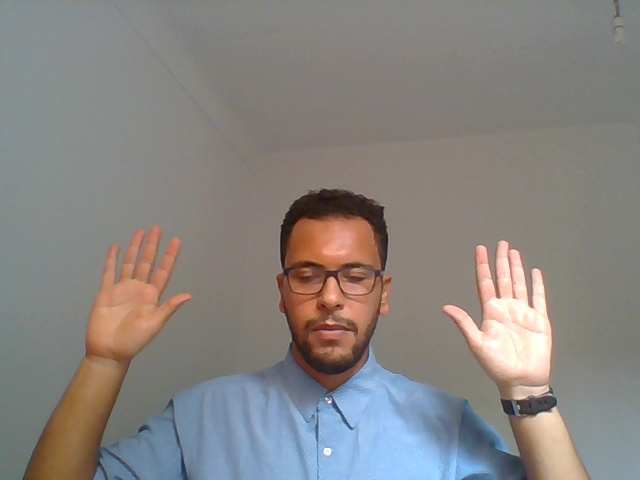hello: (431, 219, 590, 480), (33, 193, 189, 449)
